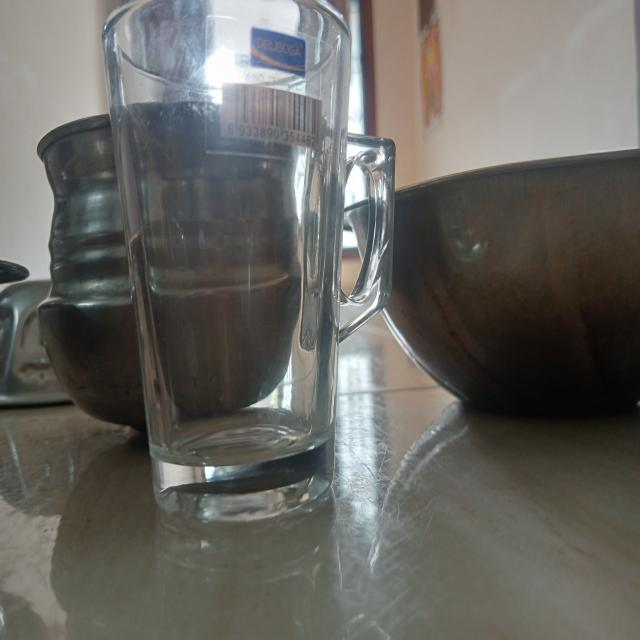glass-VX4N: (100, 3, 397, 537)
